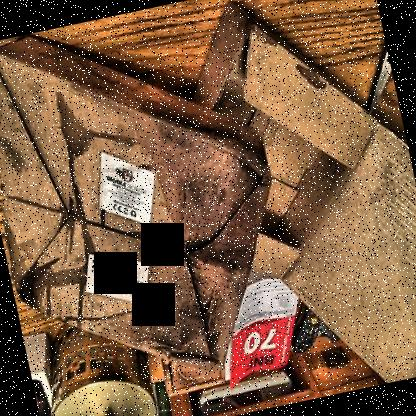defect parcel: (18, 62, 318, 414)
